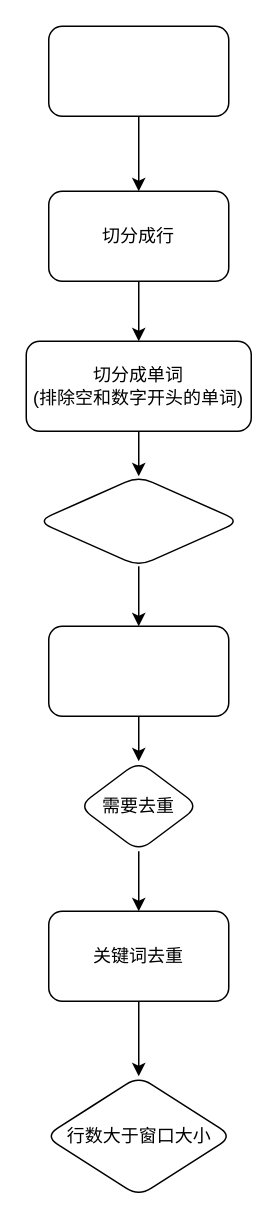
Image size: 278x1223. Some labels were removed from this diagram. The shapes that lost their labels are listed below. From the top down, each one's centre as x and y in pixels, then its label:
At pixel 138 70: "上下文prompt".
At pixel 138 520: "需要排除关键词".
At pixel 138 670: "删除关键词".
